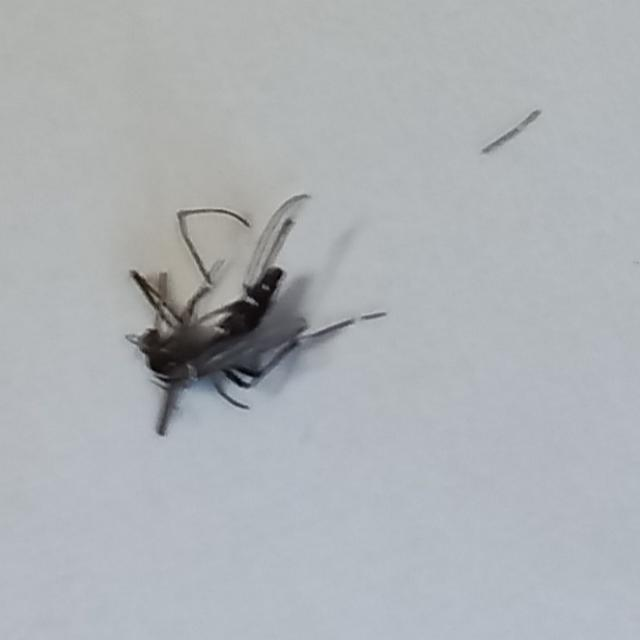albopictus: (100, 180, 382, 437)
